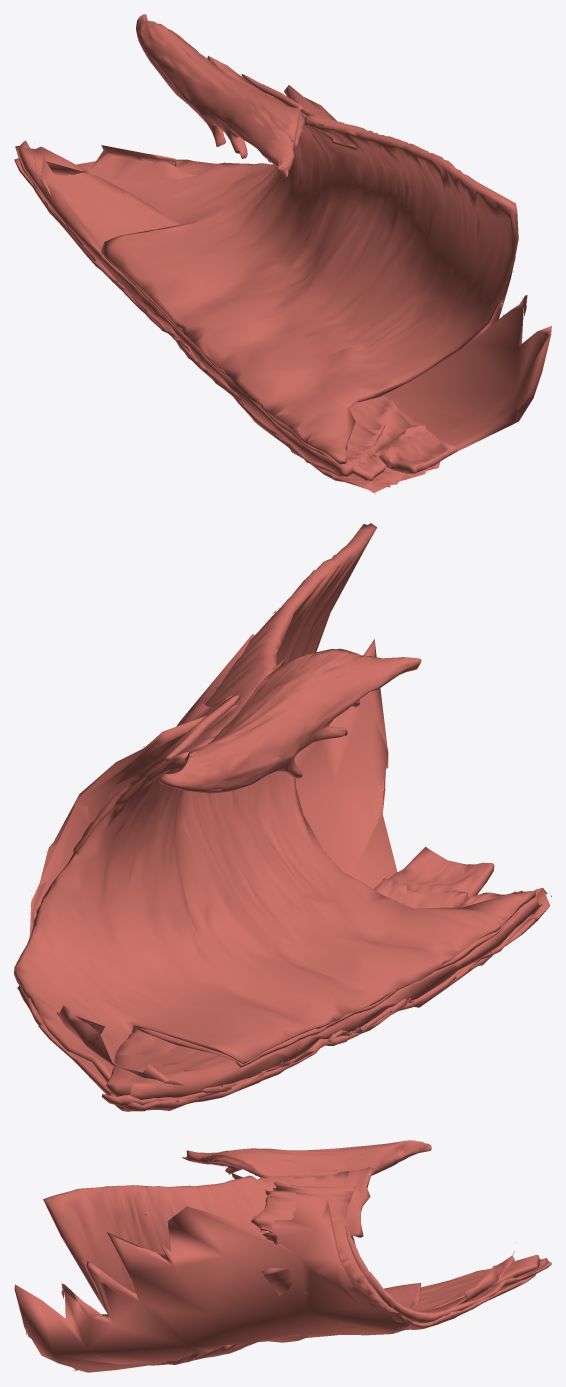
File: abdm.glb
3 views of the same model, one above another, from view 1: azimuth 30°, elevation 25°; view 2: azimuth 150°, elevation 25°; view 3: azimuth 270°, elevation 25° (orthographic). The views are drawn at different scales.
Parts seen in each view (by area): view 1: left transversus abdominis, left external oblique, left rectus abdominis, left quadratus lumborum, left internal oblique; view 2: left transversus abdominis, left external oblique, left quadratus lumborum, left rectus abdominis, left internal oblique; view 3: left external oblique, left transversus abdominis, left internal oblique, left quadratus lumborum, left rectus abdominis.
Part boxes in pixels (x1,y1,x2,y2): left transversus abdominis: (15, 56, 518, 464); left external oblique: (34, 85, 551, 494); left rectus abdominis: (18, 146, 457, 480); left quadratus lumborum: (136, 14, 304, 177); left internal oblique: (14, 74, 347, 478); left transversus abdominis: (14, 523, 535, 1107); left external oblique: (29, 610, 551, 1093); left quadratus lumborum: (159, 648, 421, 793); left rectus abdominis: (106, 846, 539, 1099); left internal oblique: (17, 694, 542, 1111); left external oblique: (14, 1173, 514, 1372); left transversus abdominis: (43, 1167, 551, 1323); left internal oblique: (169, 1182, 535, 1364); left quadratus lumborum: (182, 1140, 431, 1177); left rectus abdominis: (150, 1255, 540, 1365).
Size of the model in its own units: 136 by 197 by 445.
